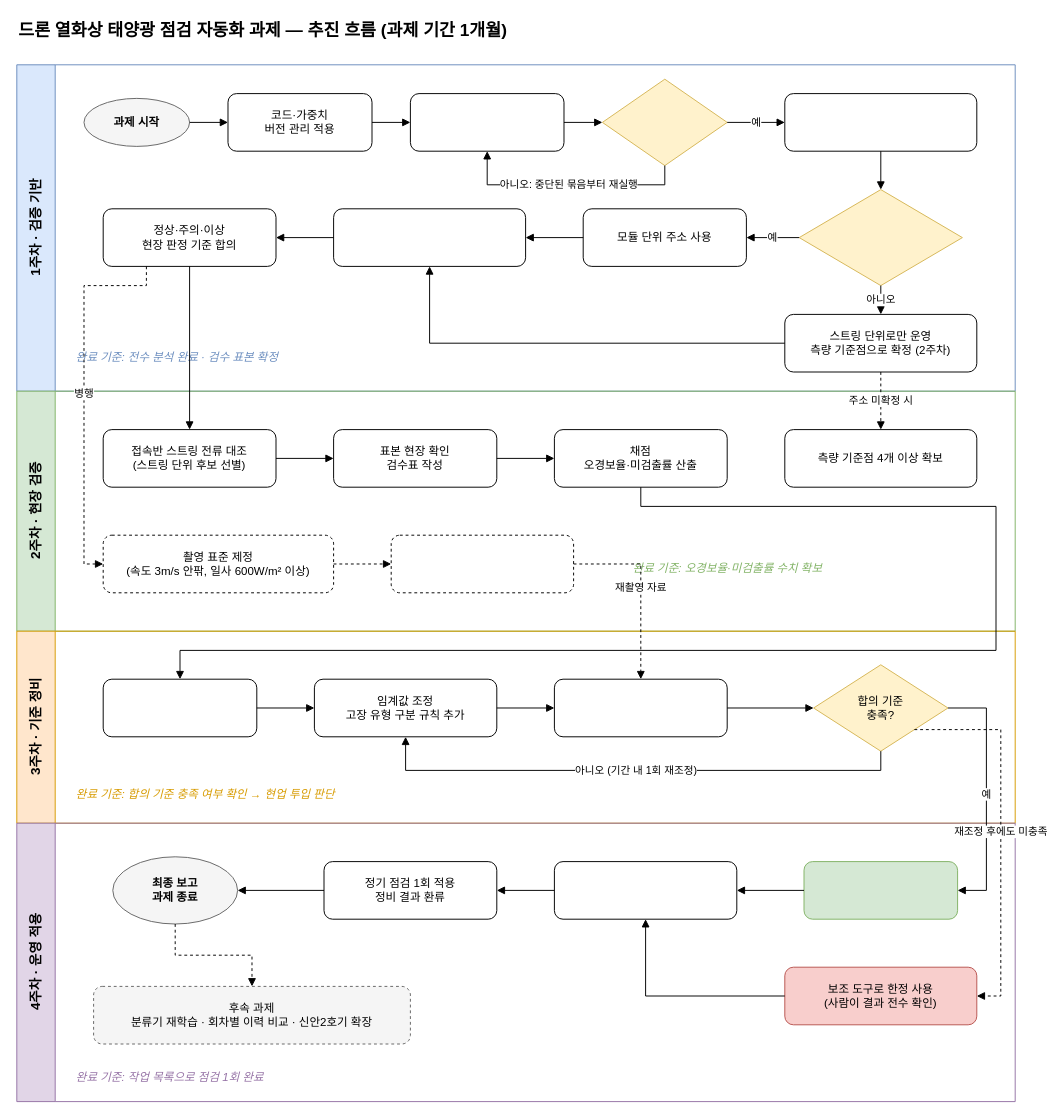
Some shapes in this 1064 by 1118 pixel diagram are drawn without their labels. The shapes that lost their labels are listed below. From the top down, each one's centre as x and y in pixels, then its label:
(486,122): 전체 1,278장 분석 (50장 묶음 단위 실행)
(664,122): 26묶음 모두 완료?
(880,122): 설비 주소 연결 (모듈·스트링·접속반·인버터)
(429,237): 검수 표본 생성 (주의·이상 전부 + 정상 250장)
(880,237): 모듈 한 칸·행 한 주기 어긋남 판정됨?
(482,563): 표준 조건 재촬영 (날씨에 따라 일정 변동)
(179,707): 합격선 합의 (운영 책임자)
(640,707): 재촬영분으로 재검증
(645,890): 작업 목록 출력 (인버터·접속반·스트링별)
(880,890): 현업 투입
